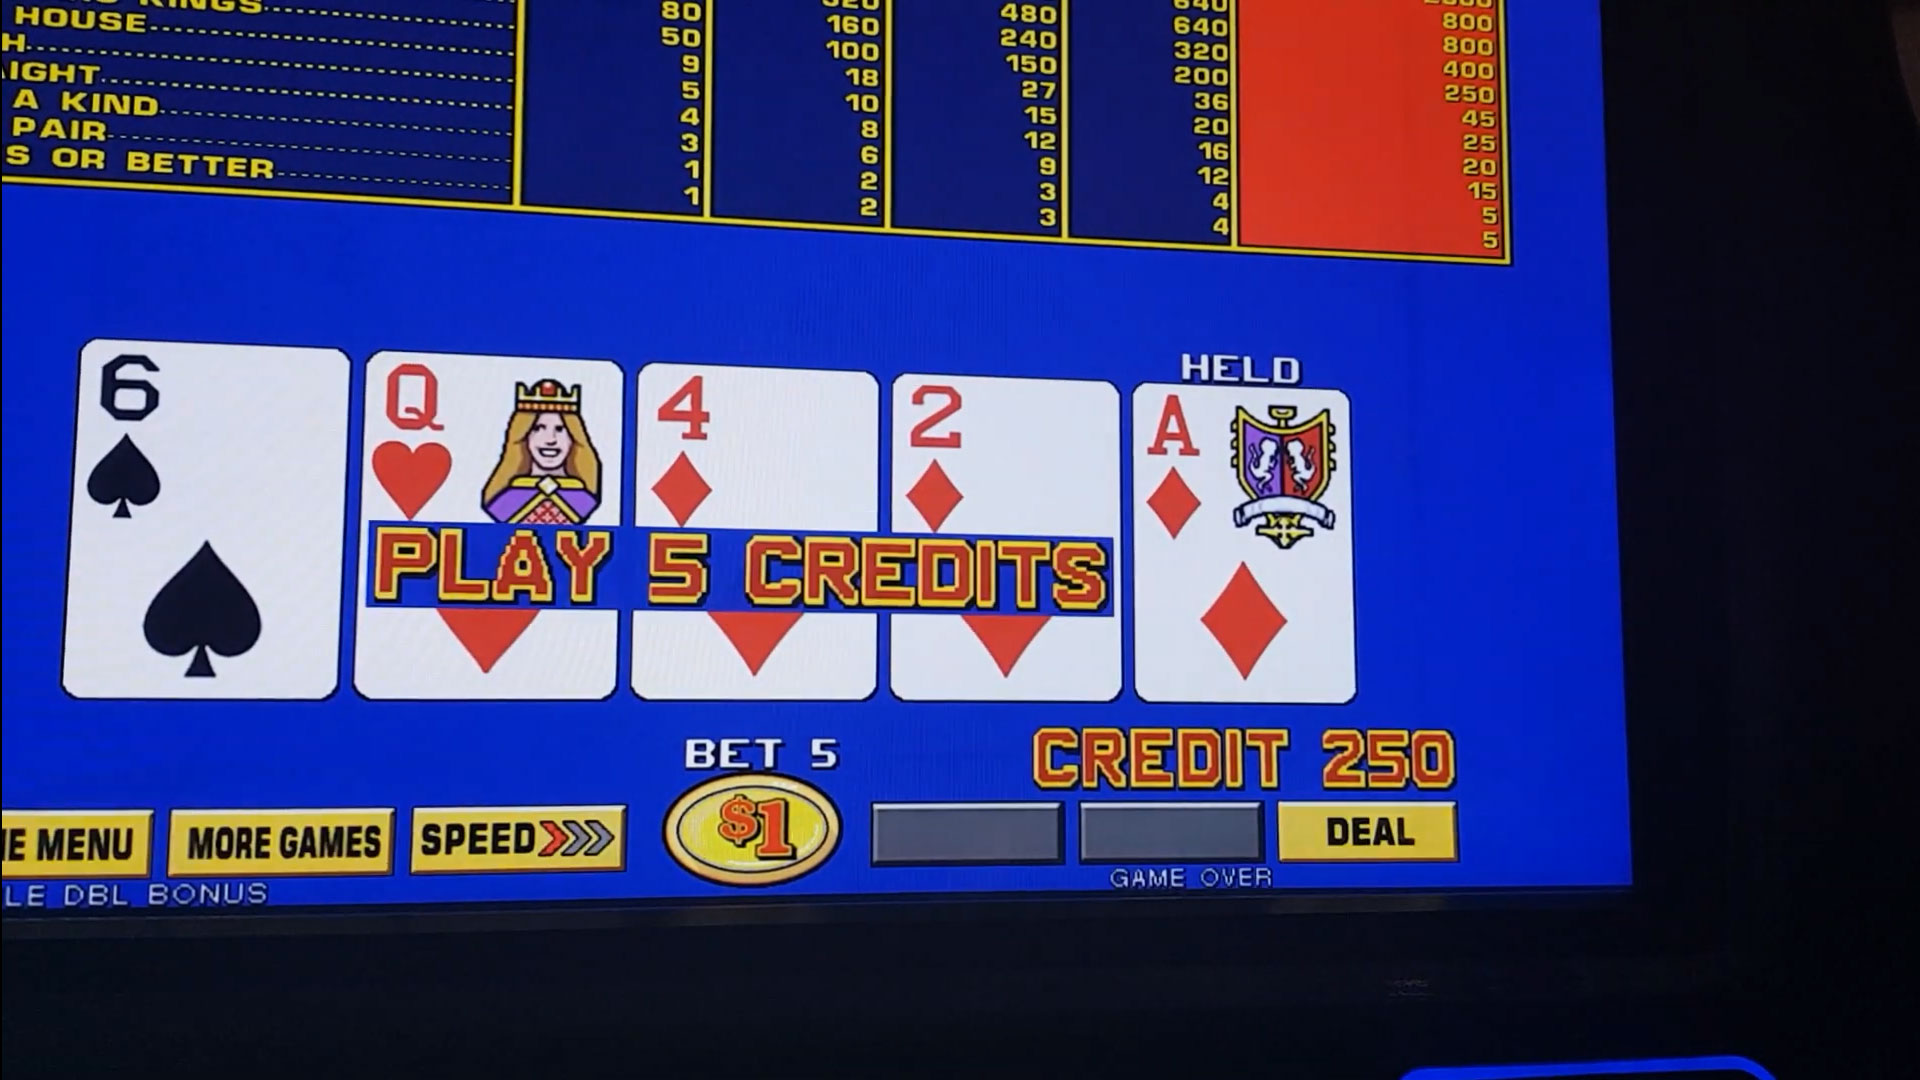D2: (895, 382, 1114, 530)
D4: (644, 373, 874, 525)
DA: (1134, 394, 1338, 539)
HQ: (369, 367, 615, 525)
S6: (84, 353, 344, 522)
